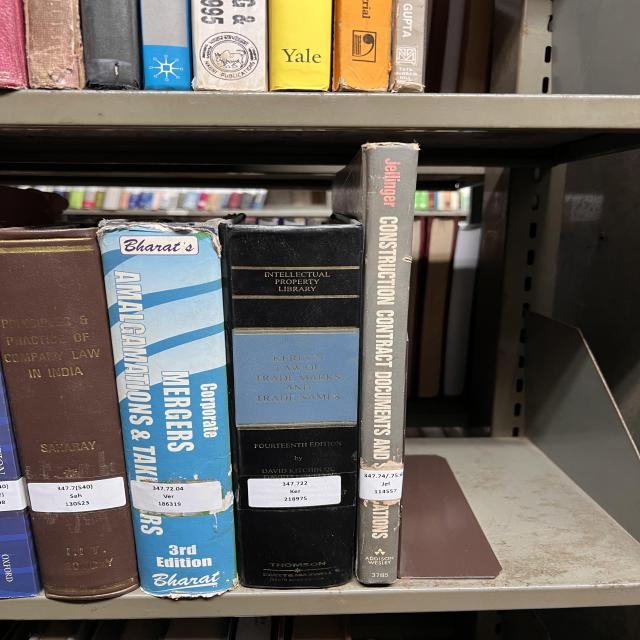Book: (98, 220, 238, 599), (0, 228, 140, 600), (333, 142, 418, 585)
Label: (130, 480, 222, 512), (358, 469, 403, 500), (68, 500, 70, 502), (80, 499, 82, 501)
